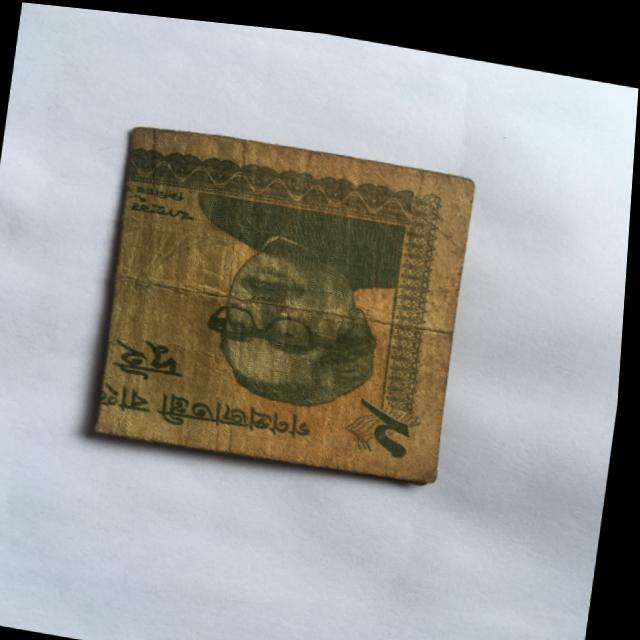Taka: (85, 100, 491, 491)
